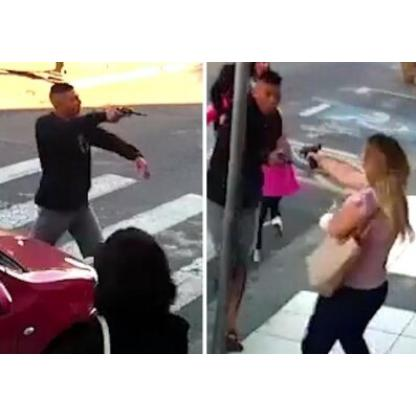gun: (102, 102, 148, 122), (293, 140, 323, 166)
